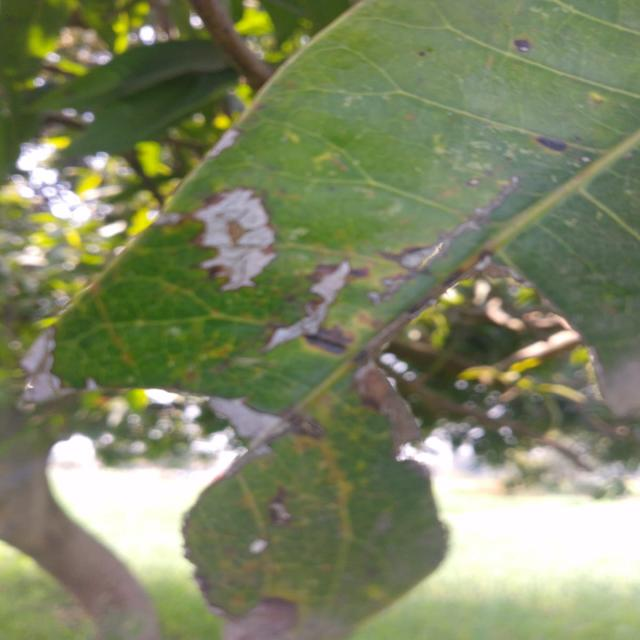Anthracnose: (263, 494, 314, 527), (244, 535, 285, 556)
Powdery Mildew: (203, 188, 275, 297), (18, 343, 68, 404), (267, 318, 327, 352), (316, 262, 350, 300)
black die: (533, 133, 565, 157), (512, 28, 528, 52)
